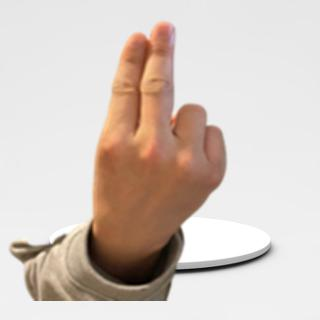DHAVE: (86, 17, 233, 249)
